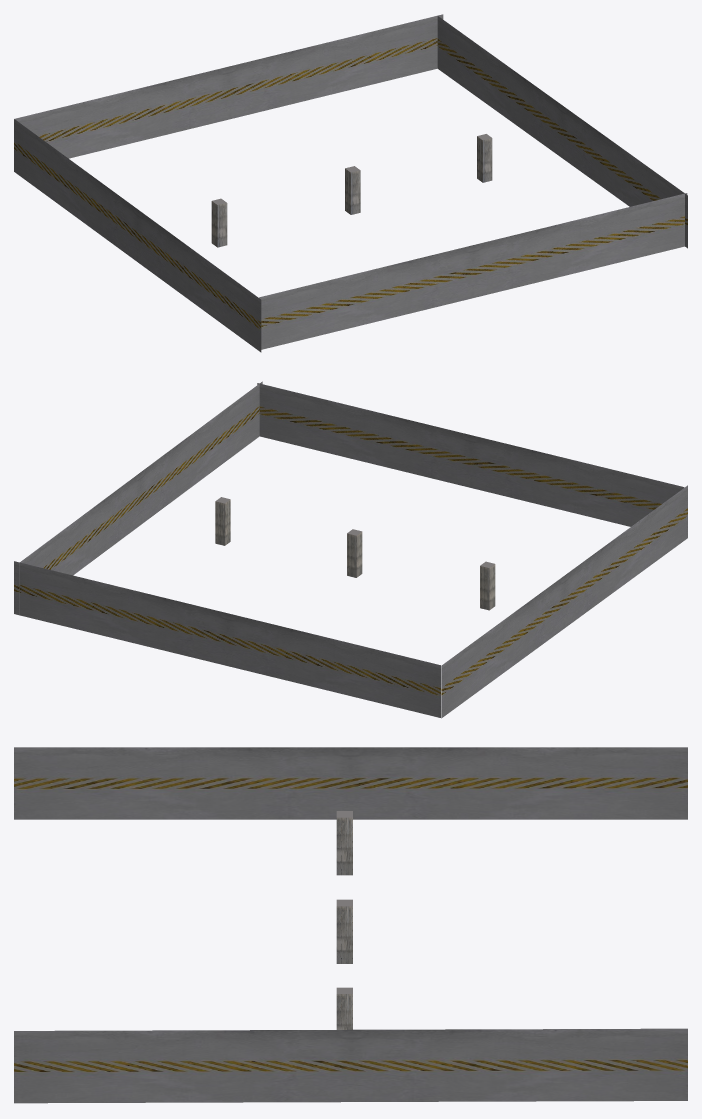
The model's file is estaciona.obj.
3 renders of one model, top to bottom at view 1: azimuth 30°, elevation 25°; view 2: azimuth 150°, elevation 25°; view 3: azimuth 270°, elevation 25°, orthographic. The views are drawn at different scales.
Parts seen in each view (by area): view 1: Mesh.001_Plane.057, Mesh.002_Plane.000, Mesh.003_Plane.055, Mesh_Plane.056, Mesh.005_Cube_Cube.003, Mesh.006_Cube_Cube.001, Mesh.004_Cube_Cube.002; view 2: Mesh.002_Plane.000, Mesh.001_Plane.057, Mesh.003_Plane.055, Mesh_Plane.056, Mesh.005_Cube_Cube.003, Mesh.006_Cube_Cube.001, Mesh.004_Cube_Cube.002; view 3: Mesh_Plane.056, Mesh.003_Plane.055, Mesh.005_Cube_Cube.003, Mesh.004_Cube_Cube.002, Mesh.006_Cube_Cube.001.
Boxes of the visible parts, x1=… form: Mesh.001_Plane.057: x1=259, y1=193, x2=687, y2=349; Mesh.002_Plane.000: x1=15, y1=14, x2=443, y2=158; Mesh.003_Plane.055: x1=14, y1=119, x2=261, y2=352; Mesh_Plane.056: x1=437, y1=16, x2=687, y2=248; Mesh.005_Cube_Cube.003: x1=211, y1=198, x2=227, y2=247; Mesh.006_Cube_Cube.001: x1=477, y1=134, x2=492, y2=182; Mesh.004_Cube_Cube.002: x1=345, y1=166, x2=360, y2=214; Mesh.002_Plane.000: x1=14, y1=561, x2=440, y2=717; Mesh.001_Plane.057: x1=257, y1=383, x2=684, y2=526; Mesh.003_Plane.055: x1=441, y1=485, x2=687, y2=718; Mesh_Plane.056: x1=19, y1=381, x2=262, y2=615; Mesh.005_Cube_Cube.003: x1=480, y1=561, x2=495, y2=610; Mesh.006_Cube_Cube.001: x1=215, y1=497, x2=230, y2=545; Mesh.004_Cube_Cube.002: x1=347, y1=529, x2=362, y2=577; Mesh_Plane.056: x1=14, y1=1028, x2=687, y2=1103; Mesh.003_Plane.055: x1=14, y1=747, x2=687, y2=819; Mesh.005_Cube_Cube.003: x1=336, y1=811, x2=352, y2=875; Mesh.004_Cube_Cube.002: x1=336, y1=899, x2=352, y2=963; Mesh.006_Cube_Cube.001: x1=336, y1=987, x2=352, y2=1029.
Bounding box in the file's own units: 2410 × 285 × 2407.
Materials: 3 (3 with a texture image).
